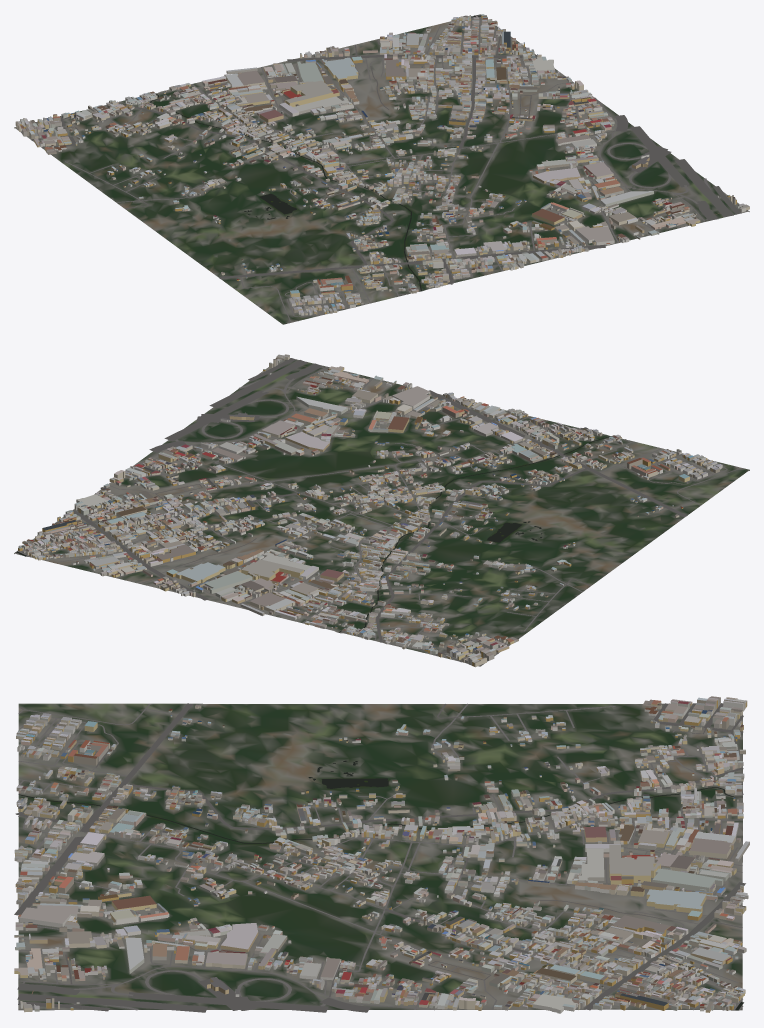
3 views of the same model, one above another, from view 1: azimuth 30°, elevation 25°; view 2: azimuth 150°, elevation 25°; view 3: azimuth 270°, elevation 25° (orthographic). The views are drawn at different scales.
Parts seen in each view (by area): view 1: ground, buildings, roads, water; view 2: ground, buildings, roads, water; view 3: ground, buildings, roads, water.
Part boxes in pixels (<box>): ground: <box>14,14,749,324</box>; buildings: <box>15,14,749,315</box>; roads: <box>21,14,741,323</box>; water: <box>150,15,481,291</box>; ground: <box>14,358,749,666</box>; buildings: <box>18,354,722,667</box>; roads: <box>15,358,743,662</box>; water: <box>15,436,611,632</box>; ground: <box>18,703,742,1010</box>; buildings: <box>14,696,749,1013</box>; roads: <box>14,703,745,1012</box>; water: <box>18,760,743,1010</box>.
Size of the model in its own units: 1425 by 24.62 by 1423.
